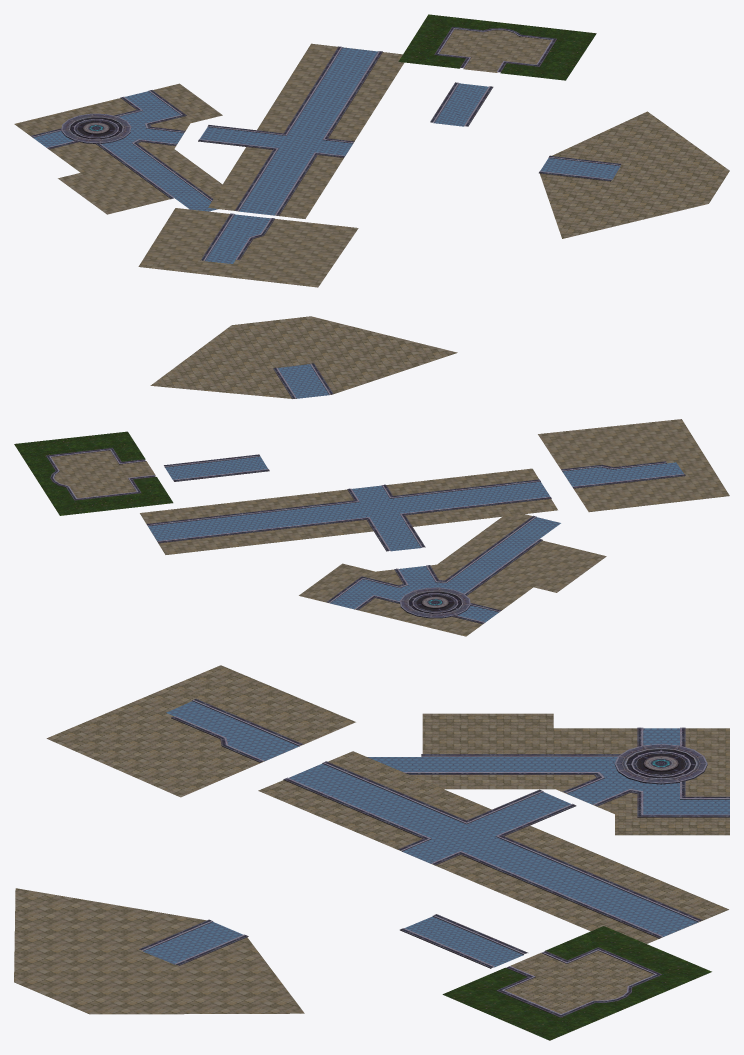
Rendered from zc_lekesigang_Terrain01.FBX.
3 renders of one model, top to bottom at view 1: azimuth 30°, elevation 25°; view 2: azimuth 150°, elevation 25°; view 3: azimuth 270°, elevation 25°, orthographic. The views are drawn at different scales.
Parts seen in each view (by area): view 1: zc_lekesigang_Terrain01; view 2: zc_lekesigang_Terrain01; view 3: zc_lekesigang_Terrain01.
Boxes of the visible parts, left/top/right/bottom form: zc_lekesigang_Terrain01: left=14, top=14, right=729, bottom=287; zc_lekesigang_Terrain01: left=14, top=316, right=729, bottom=636; zc_lekesigang_Terrain01: left=14, top=665, right=729, bottom=1040.
Bounding box in the file's own units: 17697 × 451 × 14241.
4 materials, 4 textured.
